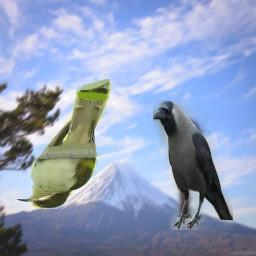Crow: (153, 100, 233, 230)
Cuckoo: (16, 79, 111, 209)
